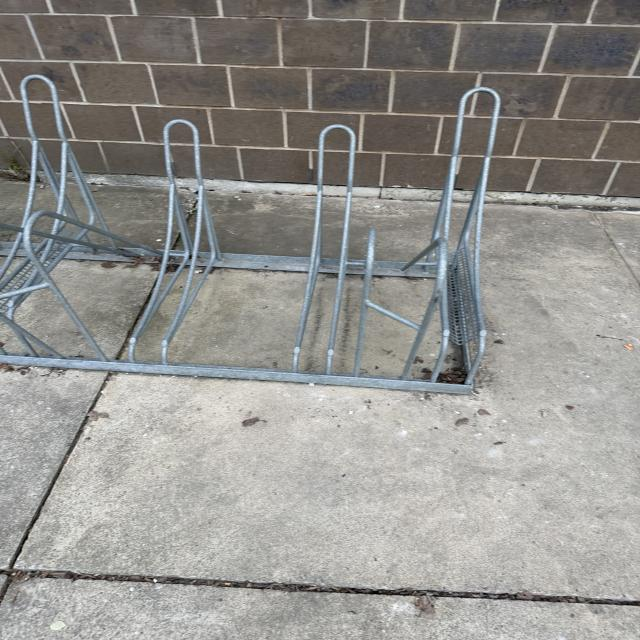Bicycle Rack: (0, 72, 499, 394)
